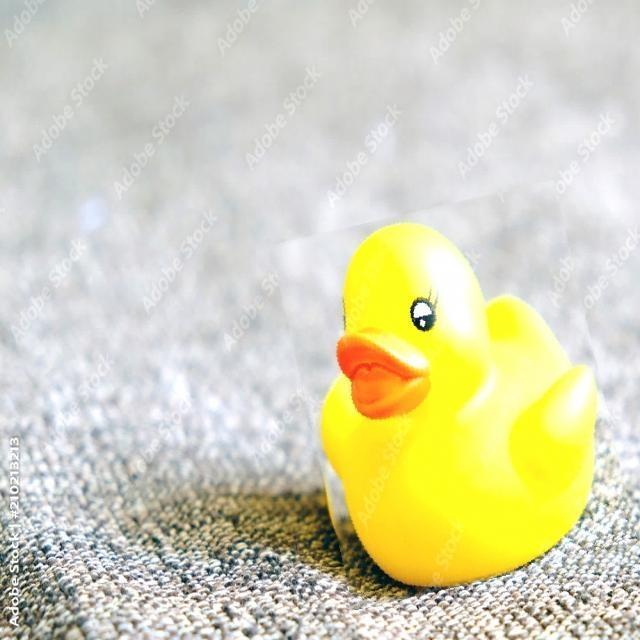rubber-duck: (320, 223, 596, 584)
